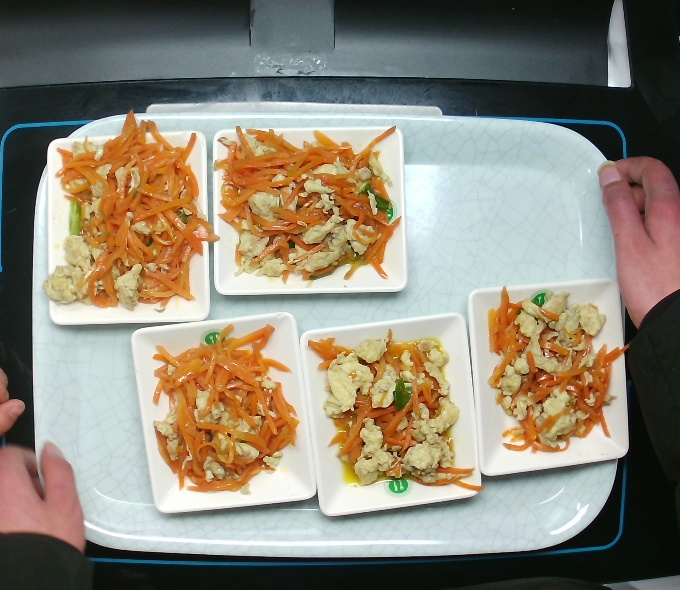wcq-HuLuoBoChaoDan: (50, 124, 213, 315), (215, 133, 404, 279), (314, 328, 471, 496), (151, 329, 290, 504), (482, 288, 621, 463)
